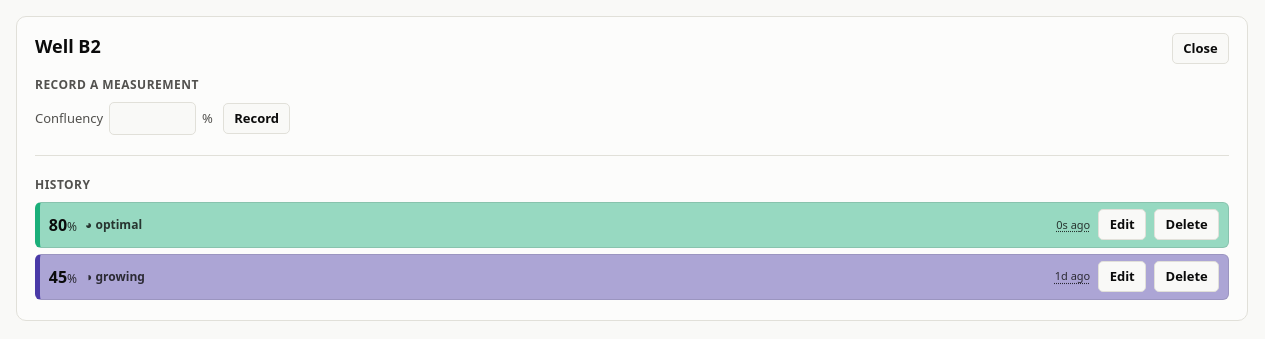
WellPanel — correcting a measurement › seeds the inline edit with the current value
expect the text "80" is shown: met, box [49,214,67,236]
Click the button "Edit" in the row of "45".
click(1122, 277)  # box [1098,261,1146,292]
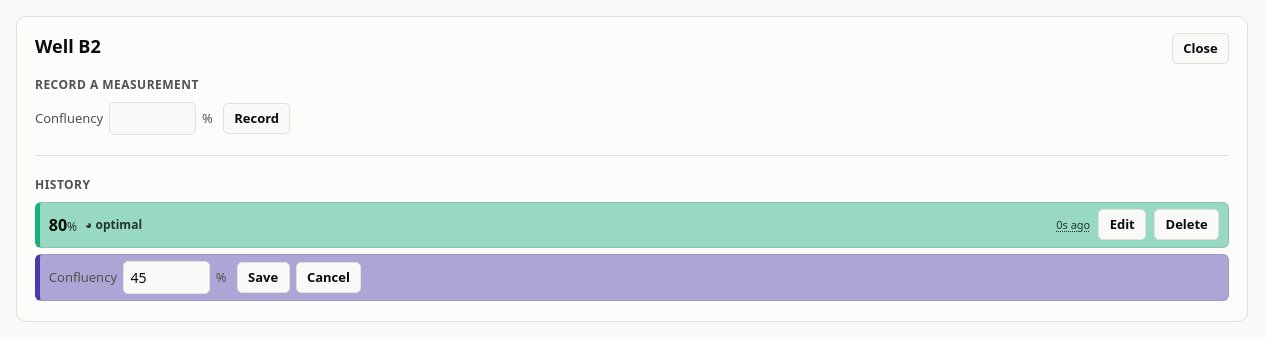
expect the number field showing "45" below "80" is shown: met, box [123,261,210,294]
